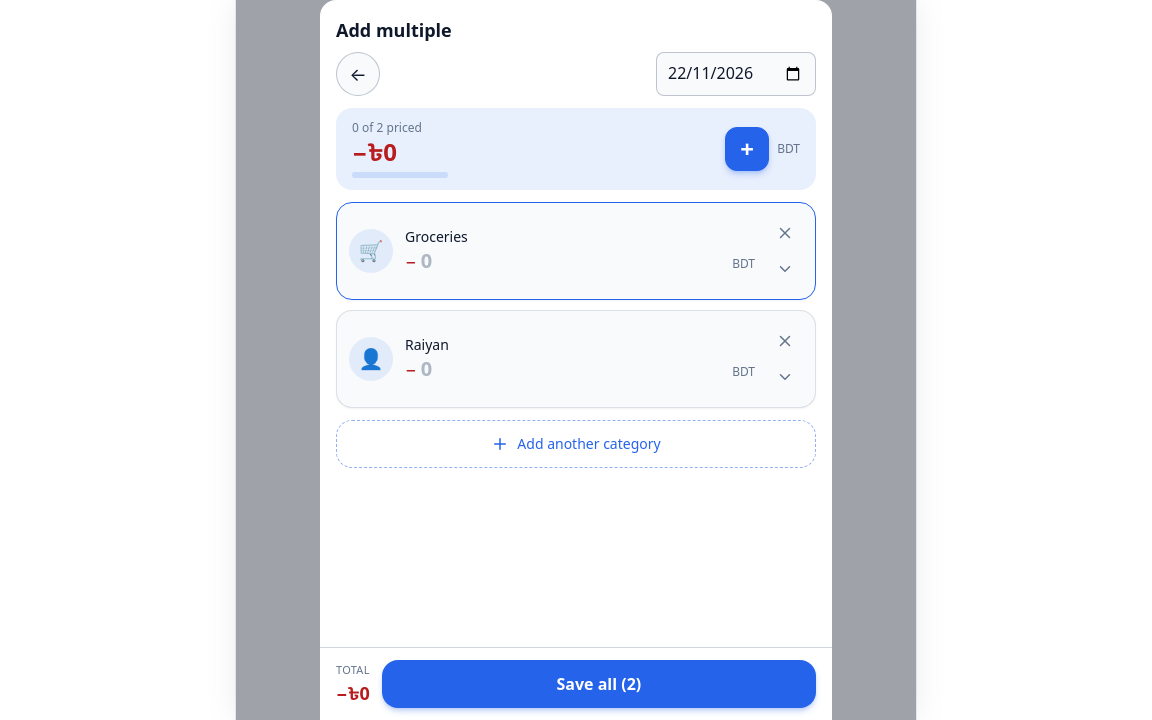
Test: BasketSheet › keeps the draft and shows an error when the batch fails
Type "10" into the field named "Amount for Groceries" at (574, 261), box [421,247,728,275]
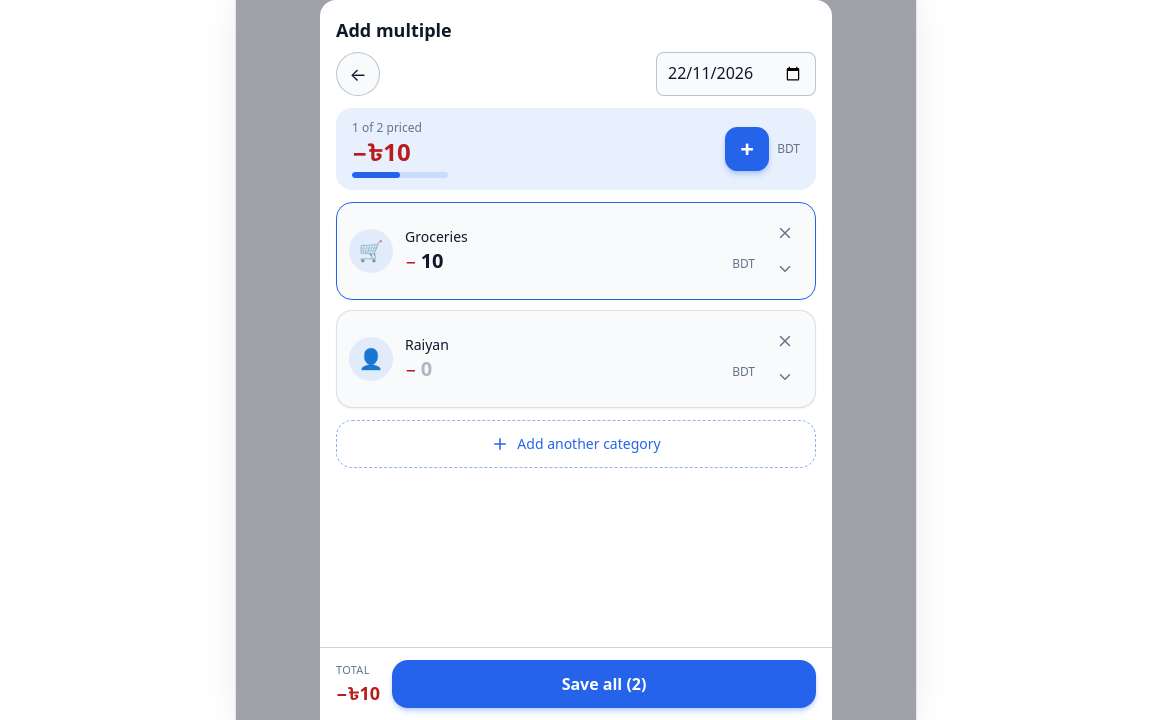
Type "20" into the field named "Amount for Raiyan" at (574, 369), box [421,355,728,383]
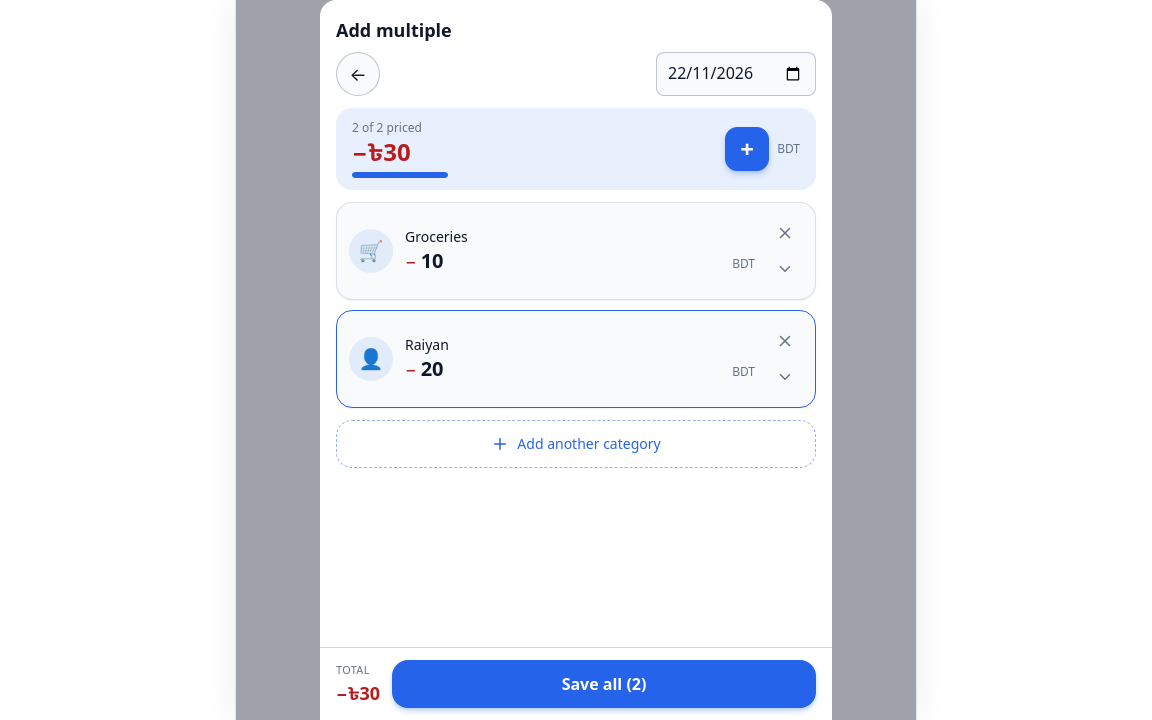
Click the button "Save all (2)" at (604, 684), box [392,660,816,708]
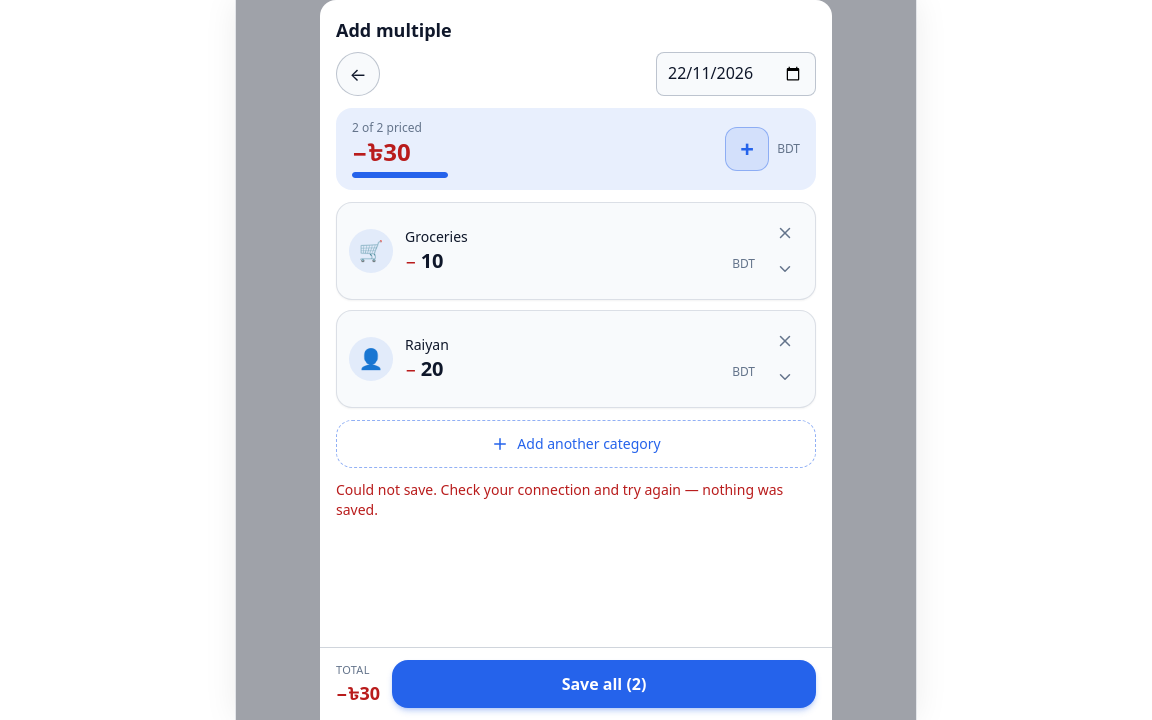
expect the text "Could not save. Check your connection and try again — nothing was saved." is shown: met, box [336,480,816,520]
